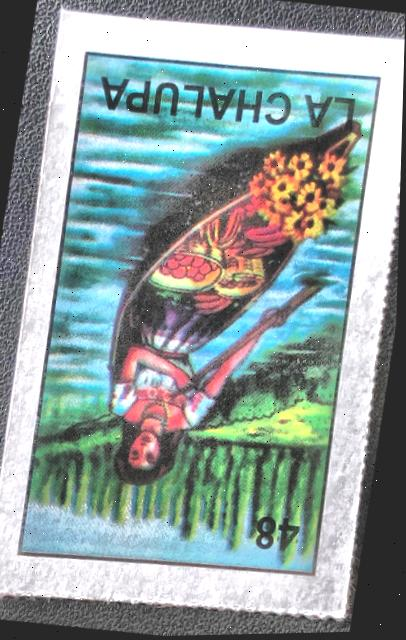La Chalupa: (2, 26, 404, 602)
